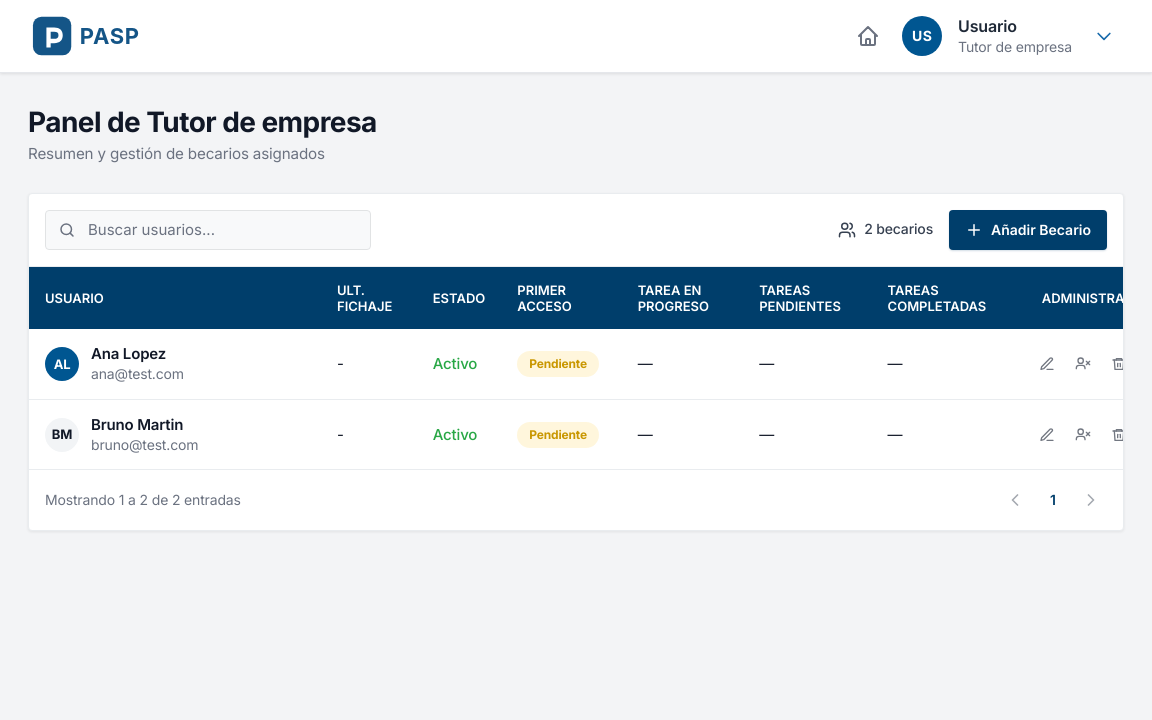
Test case: TutorDashboard › filtra por nombre y explica cuando no hay coincidencias
The image size is (1152, 720).
Expected: the text "Ana Lopez" is shown, [91, 344, 166, 363]
Type "Bruno" into the field named "Buscar becarios".
click(223, 230); type("Bruno")  # box [76, 220, 370, 239]
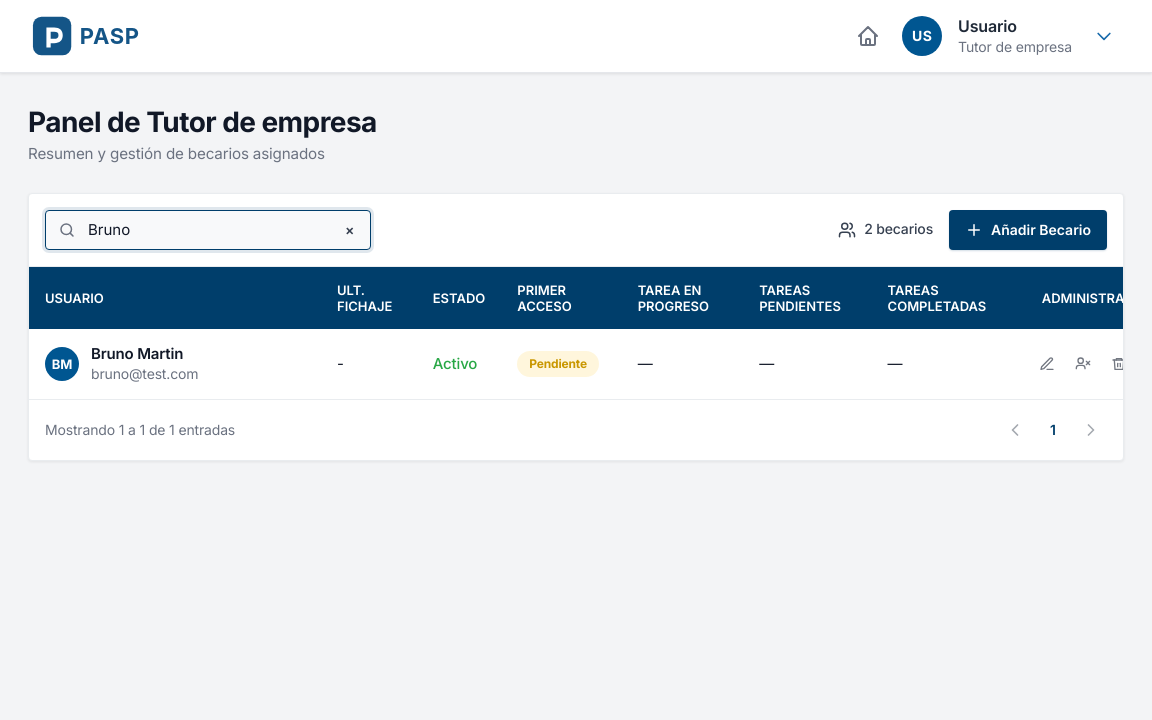
Expected: the text "Bruno Martin" is shown, [91, 345, 198, 363]
Expected: the text "Ana Lopez" is gone
Clear the field named "Buscar becarios" at {"x": 207, "y": 230}, box [76, 220, 337, 239]
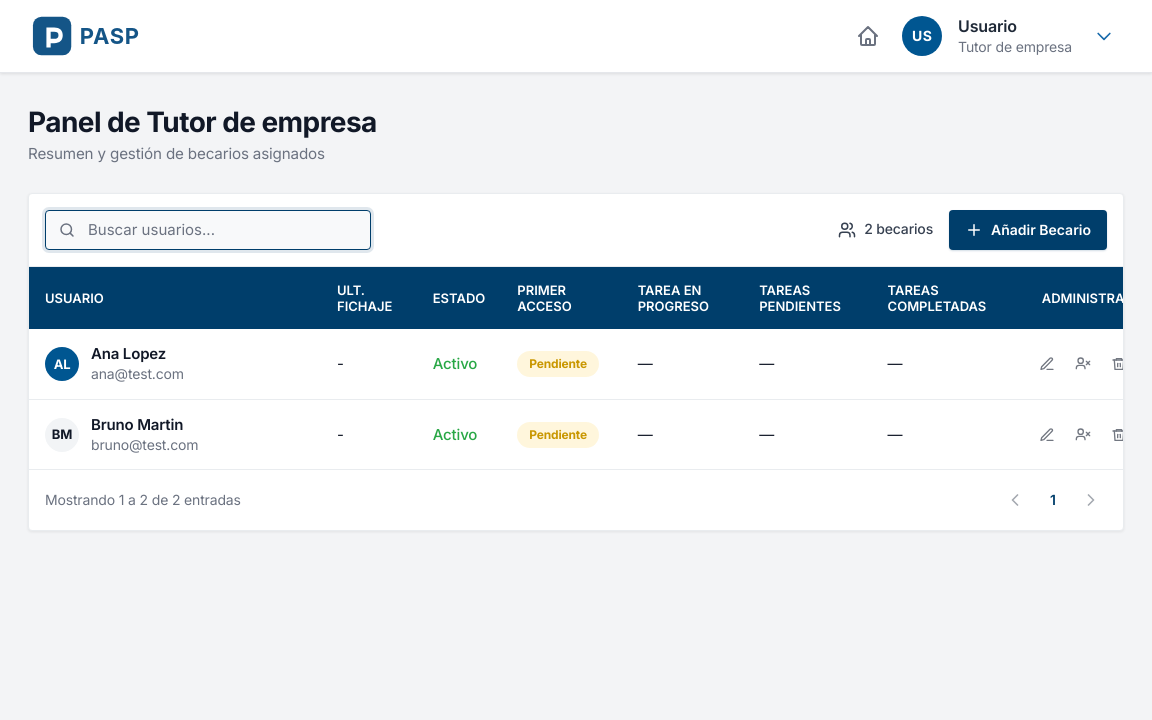
Type "Nadie" into the field named "Buscar becarios".
click(223, 230); type("Nadie")  # box [76, 220, 370, 239]
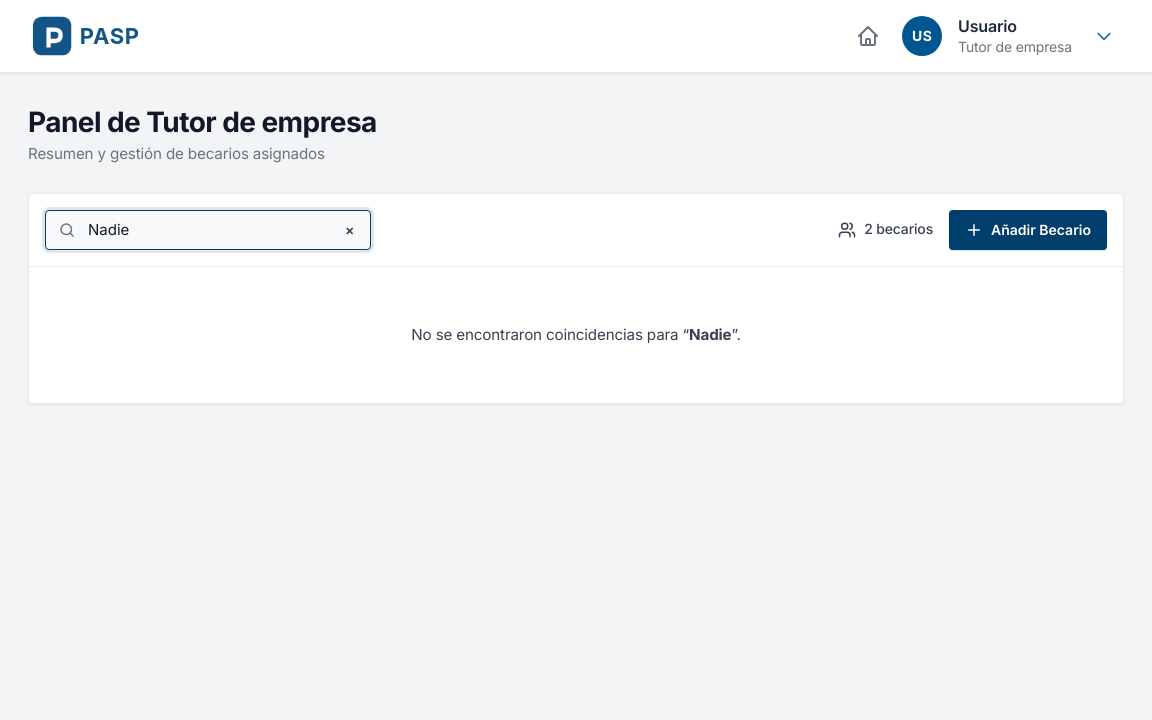
Expected: the text "No se encontraron coincidencias para “Nadie”." is shown, [411, 324, 741, 344]
